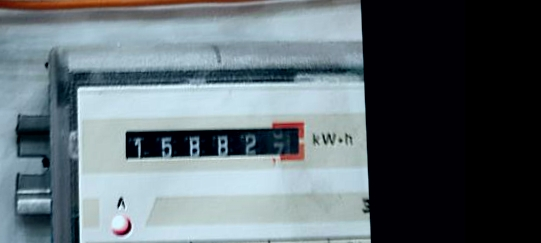1: (131, 135, 146, 158)
2: (242, 133, 259, 157)
5: (159, 134, 174, 160)
7: (272, 138, 285, 156)
8: (215, 134, 230, 158), (187, 135, 201, 159)
screen: (116, 114, 315, 178)
